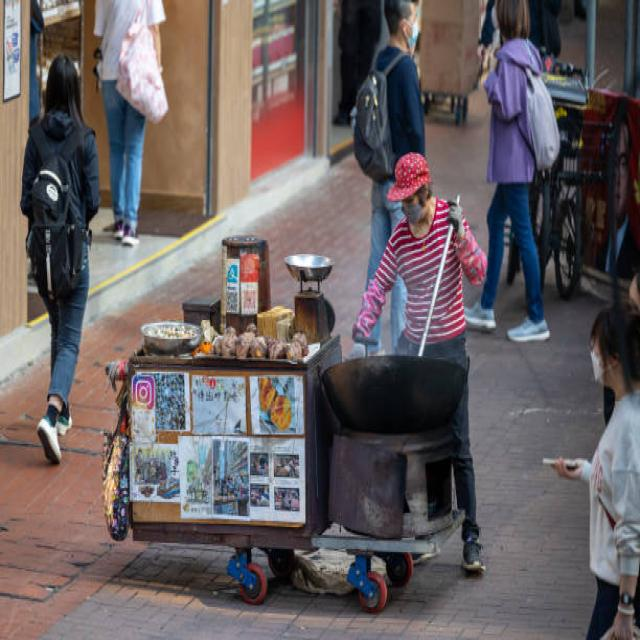Emperan: (89, 208, 501, 608)
